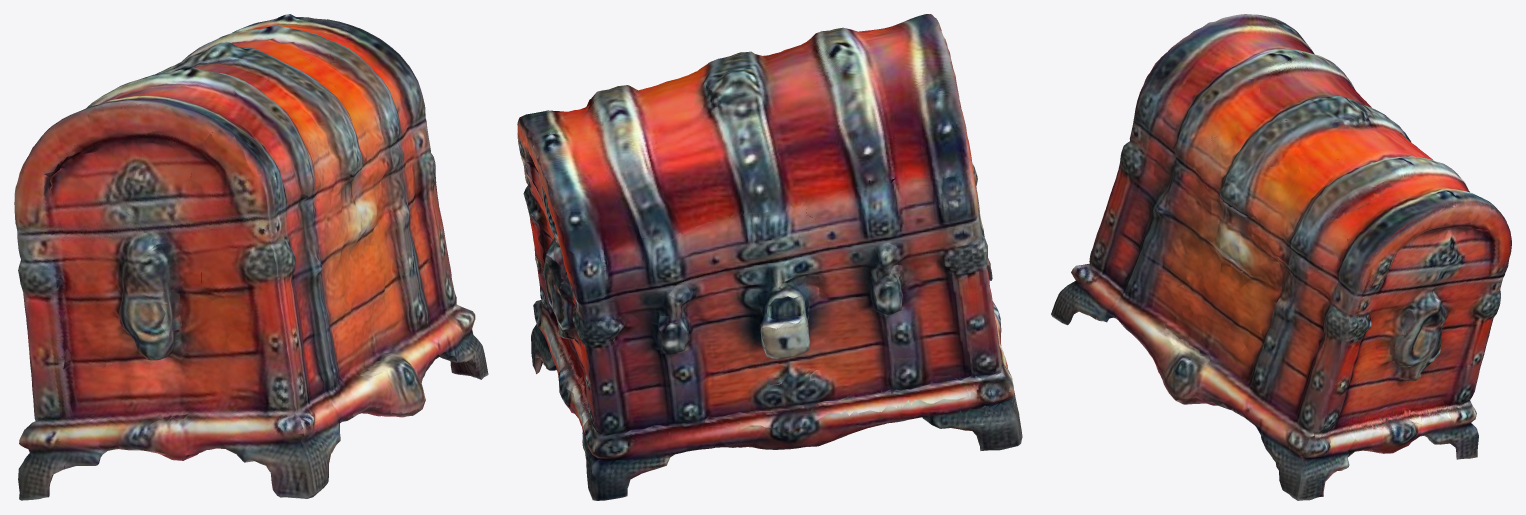
3 renders of one model, left to right at view 1: azimuth 30°, elevation 25°; view 2: azimuth 150°, elevation 25°; view 3: azimuth 270°, elevation 25°, orthographic. The views are drawn at different scales.
Visible parts, largest first — view 1: world; view 2: world; view 3: world.
Part boxes in pixels (x1,y1,x2,y2): world: [14, 14, 488, 500]; world: [517, 14, 1022, 500]; world: [1051, 14, 1511, 500].
Size of the model in its own units: 1.05 by 0.8795 by 1.04.
1 material, 1 textured.
